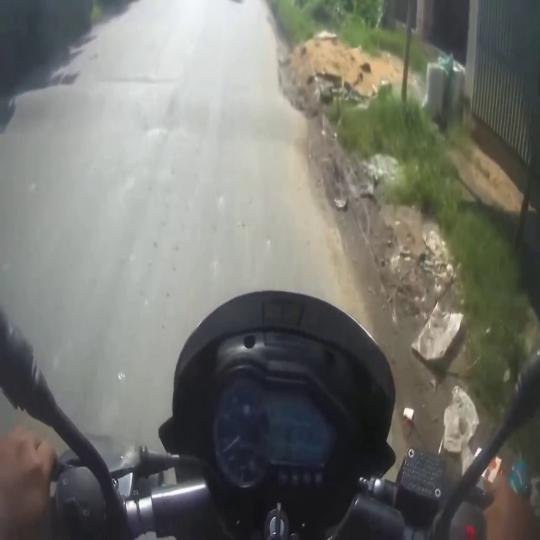Speed Bump: (0, 75, 298, 156)
